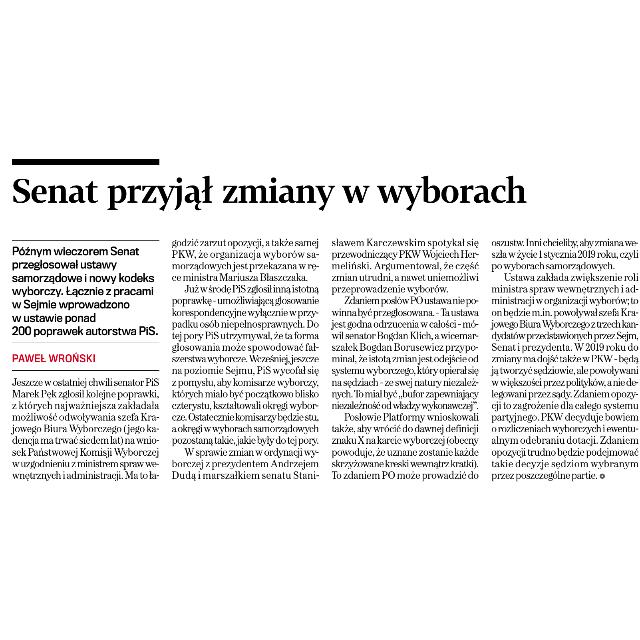author: (8, 348, 100, 368)
body: (326, 235, 482, 482), (488, 236, 640, 484), (170, 237, 322, 483), (8, 372, 162, 483)
lead: (8, 242, 162, 340)
title: (8, 168, 536, 216)
